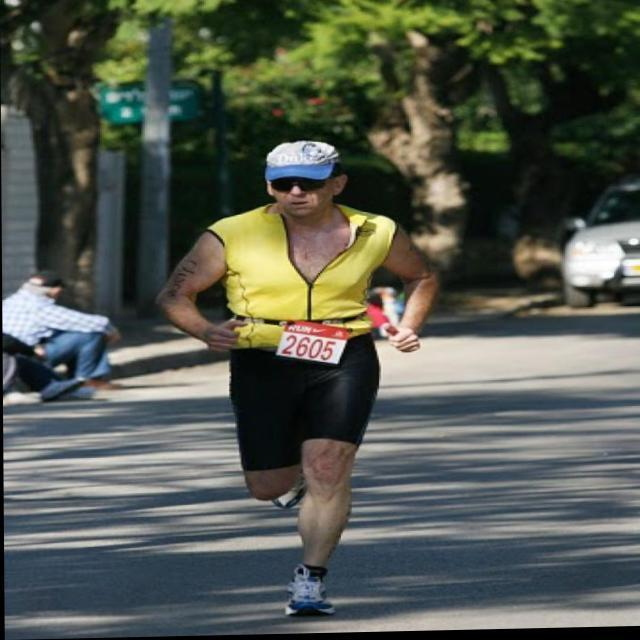dorsal: (272, 318, 355, 367)
